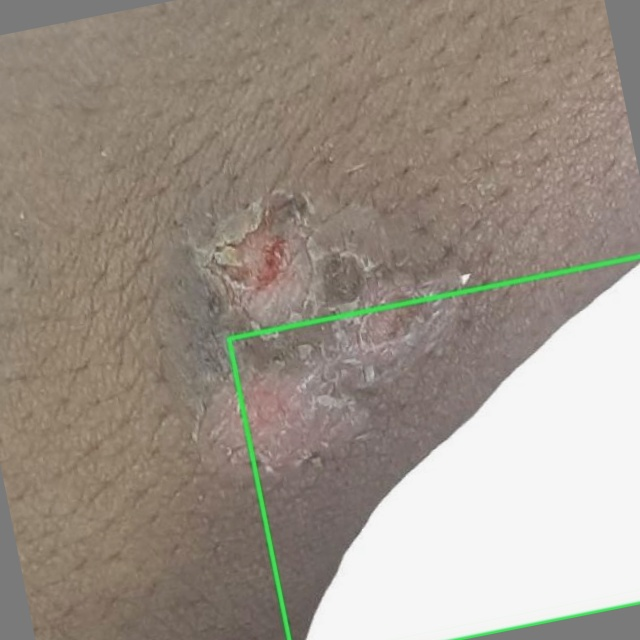Contact Dermatitis: (229, 256, 639, 639)
